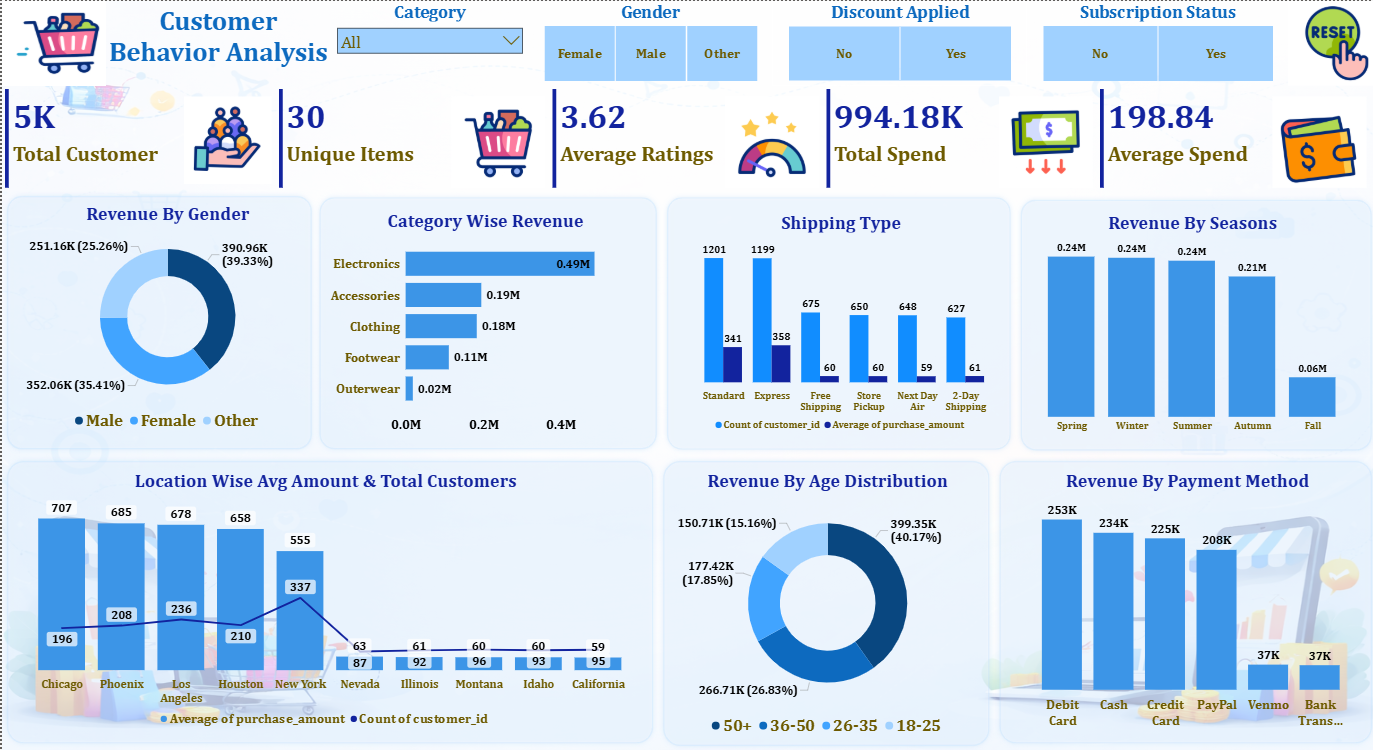

The page's visual inventory and layout, read from the dashboard file:
{"tool":"powerbi","page":{"name":"Customer Analysis Revenue","canvas":[2200,1200],"ordinal":0},"visuals":[{"type":"cardVisual","fields":{"Data":["customer_behaviour customer_behaviour_analysis.Total Customer","customer_behaviour customer_behaviour_analysis.Unique Items","customer_behaviour customer_behaviour_analysis.Average Ratings","customer_behaviour customer_behaviour_analysis.Total Spend","customer_behaviour customer_behaviour_analysis.Average Spend"]},"box":[0,136,2200,168],"z":0},{"type":"group","id":"g1","title":"Group 2","box":[0,304,504,422],"z":1000},{"type":"shape","box":[0,304,503.8,421.4],"z":1000,"group":"g1"},{"type":"shape","box":[500,306,555.7,419.1],"z":2000,"group":"g7"},{"type":"group","id":"g2","title":"Group 5","box":[1622,310,578,416],"z":2000},{"type":"shape","box":[1056,306,566,420],"z":3000,"group":"g6"},{"type":"barChart","title":"Category Wise Revenue","fields":{"Category":["customer_behaviour customer_behaviour_analysis.category"],"Y":["Sum(customer_behaviour customer_behaviour_analysis.purchase_amount)"]},"box":[515.7,333.1,515.7,364.8],"z":3000,"group":"g7"},{"type":"group","id":"g3","title":"Group 6","box":[0,728,1050,468],"z":3000},{"type":"donutChart","title":"Revenue By Gender","fields":{"Category":["customer_behaviour customer_behaviour_analysis.gender"],"Y":["Sum(customer_behaviour customer_behaviour_analysis.purchase_amount)"]},"box":[25,321.2,478.8,375],"z":4000,"group":"g1"},{"type":"group","id":"g4","title":"Group 1","box":[1050,728,538,472],"z":4000},{"type":"clusteredColumnChart","title":"Shipping Type","fields":{"Category":["customer_behaviour customer_behaviour_analysis.shipping_type"],"Y":["CountNonNull(customer_behaviour customer_behaviour_analysis.customer_id)","Avg(customer_behaviour customer_behaviour_analysis.purchase_amount)"]},"box":[1076.7,335.9,533.3,362.3],"z":5000,"group":"g6"},{"type":"group","id":"g5","title":"Group 4","box":[1588,728,612,468],"z":5000},{"type":"shape","box":[0,728,1050,468],"z":5500,"group":"g3"},{"type":"group","id":"g6","title":"Group 7","box":[1056,306,566,420],"z":6000},{"type":"shape","box":[1050,728,538,472],"z":6000,"group":"g4"},{"type":"lineClusteredColumnComboChart","title":"Location Wise Avg Amount & Total Customers","fields":{"Category":["customer_behaviour customer_behaviour_analysis.location"],"Y":["Avg(customer_behaviour customer_behaviour_analysis.purchase_amount)"],"Y2":["Count(customer_behaviour customer_behaviour_analysis.customer_id)"]},"box":[0,749.8,1035.7,421.2],"z":6000,"group":"g3"},{"type":"group","id":"g7","title":"Group 3","box":[500,306,554,420],"z":7000},{"type":"shape","box":[1622,310,577.5,417.1],"z":7000,"group":"g2"},{"type":"shape","box":[1588,728,612,468],"z":7000,"group":"g5"},{"type":"textbox","box":[166,0,360,136],"z":8000},{"type":"actionButton","box":[0,0,166,136],"z":9000},{"type":"clusteredColumnChart","title":"Revenue By Seasons","fields":{"Category":["customer_behaviour customer_behaviour_analysis.season"],"Y":["Sum(customer_behaviour customer_behaviour_analysis.purchase_amount)"]},"box":[1629.5,336.4,550,362.5],"z":9000,"group":"g2"},{"type":"donutChart","title":"Revenue By Age Distribution","fields":{"Y":["Sum(customer_behaviour customer_behaviour_analysis.purchase_amount)"],"Category":["customer_behaviour customer_behaviour_analysis.age (groups)"]},"box":[1067.2,749.8,506.5,434.6],"z":9000,"group":"g4"},{"type":"clusteredColumnChart","title":"Revenue By Payment Method","fields":{"Y":["Sum(customer_behaviour customer_behaviour_analysis.purchase_amount)"],"Category":["customer_behaviour customer_behaviour_analysis.payment_method"]},"box":[1613.7,749.8,566.3,421.2],"z":9000,"group":"g5"},{"type":"slicer","title":"Category","fields":{"Values":["customer_behaviour customer_behaviour_analysis.category"]},"box":[525,0,317.5,135],"z":10000},{"type":"slicer","title":"Gender","fields":{"Values":["customer_behaviour customer_behaviour_analysis.gender"]},"box":[842.5,0,390,135],"z":11000},{"type":"slicer","title":"Subscription Status","fields":{"Values":["customer_behaviour customer_behaviour_analysis.subscription_status"]},"box":[1640,0,417.5,135],"z":12000},{"type":"slicer","title":"Discount Applied","fields":{"Values":["customer_behaviour customer_behaviour_analysis.discount_applied"]},"box":[1232.5,0,407.5,135],"z":13000},{"type":"actionButton","box":[2057.5,0,142.5,135],"z":13001}]}

Visuals, with their boxes in screenshot pixels (x1, y1, x2, y2), scaled from the page's 2200x1200 canvas onto the 1373x750 screenshot:
cardVisual - customer_behaviour customer_behaviour_analysis.Total Customer x customer_behaviour customer_behaviour_analysis.Unique Items: {"left": 0, "top": 85, "right": 1372, "bottom": 190}
"Group 2" group: {"left": 0, "top": 190, "right": 315, "bottom": 454}
shape: {"left": 0, "top": 190, "right": 314, "bottom": 453}
shape: {"left": 312, "top": 191, "right": 659, "bottom": 453}
"Group 5" group: {"left": 1012, "top": 194, "right": 1372, "bottom": 454}
shape: {"left": 659, "top": 191, "right": 1012, "bottom": 454}
"Category Wise Revenue" barChart: {"left": 322, "top": 208, "right": 644, "bottom": 436}
"Group 6" group: {"left": 0, "top": 455, "right": 655, "bottom": 748}
"Revenue By Gender" donutChart: {"left": 16, "top": 201, "right": 314, "bottom": 435}
"Group 1" group: {"left": 655, "top": 455, "right": 991, "bottom": 749}
"Shipping Type" clusteredColumnChart: {"left": 672, "top": 210, "right": 1005, "bottom": 436}
"Group 4" group: {"left": 991, "top": 455, "right": 1372, "bottom": 748}
shape: {"left": 0, "top": 455, "right": 655, "bottom": 748}
"Group 7" group: {"left": 659, "top": 191, "right": 1012, "bottom": 454}
shape: {"left": 655, "top": 455, "right": 991, "bottom": 749}
"Location Wise Avg Amount & Total Customers" lineClusteredColumnComboChart: {"left": 0, "top": 469, "right": 646, "bottom": 732}
"Group 3" group: {"left": 312, "top": 191, "right": 658, "bottom": 454}
shape: {"left": 1012, "top": 194, "right": 1372, "bottom": 454}
shape: {"left": 991, "top": 455, "right": 1372, "bottom": 748}
textbox: {"left": 104, "top": 0, "right": 328, "bottom": 85}
actionButton: {"left": 0, "top": 0, "right": 104, "bottom": 85}
"Revenue By Seasons" clusteredColumnChart: {"left": 1017, "top": 210, "right": 1360, "bottom": 437}
"Revenue By Age Distribution" donutChart: {"left": 666, "top": 469, "right": 982, "bottom": 740}
"Revenue By Payment Method" clusteredColumnChart: {"left": 1007, "top": 469, "right": 1361, "bottom": 732}
"Category" slicer: {"left": 328, "top": 0, "right": 526, "bottom": 84}
"Gender" slicer: {"left": 526, "top": 0, "right": 769, "bottom": 84}
"Subscription Status" slicer: {"left": 1024, "top": 0, "right": 1284, "bottom": 84}
"Discount Applied" slicer: {"left": 769, "top": 0, "right": 1024, "bottom": 84}
actionButton: {"left": 1284, "top": 0, "right": 1372, "bottom": 84}
